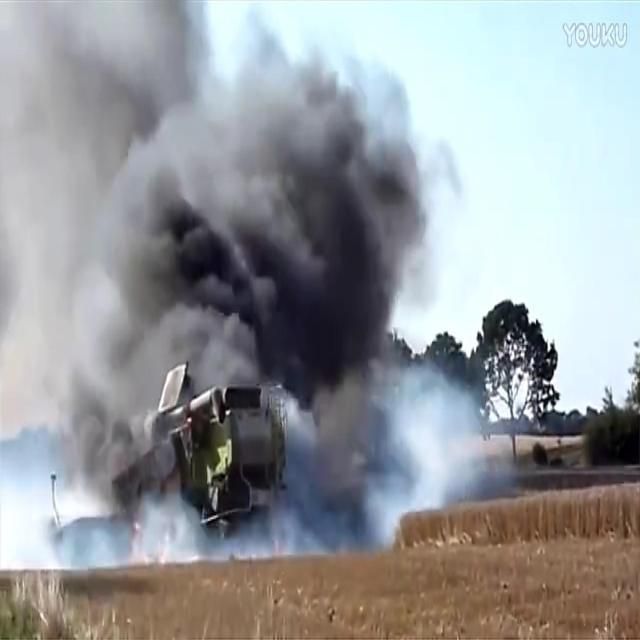Smoke: (62, 29, 466, 469), (0, 3, 217, 448), (0, 472, 365, 561), (367, 360, 514, 552)
